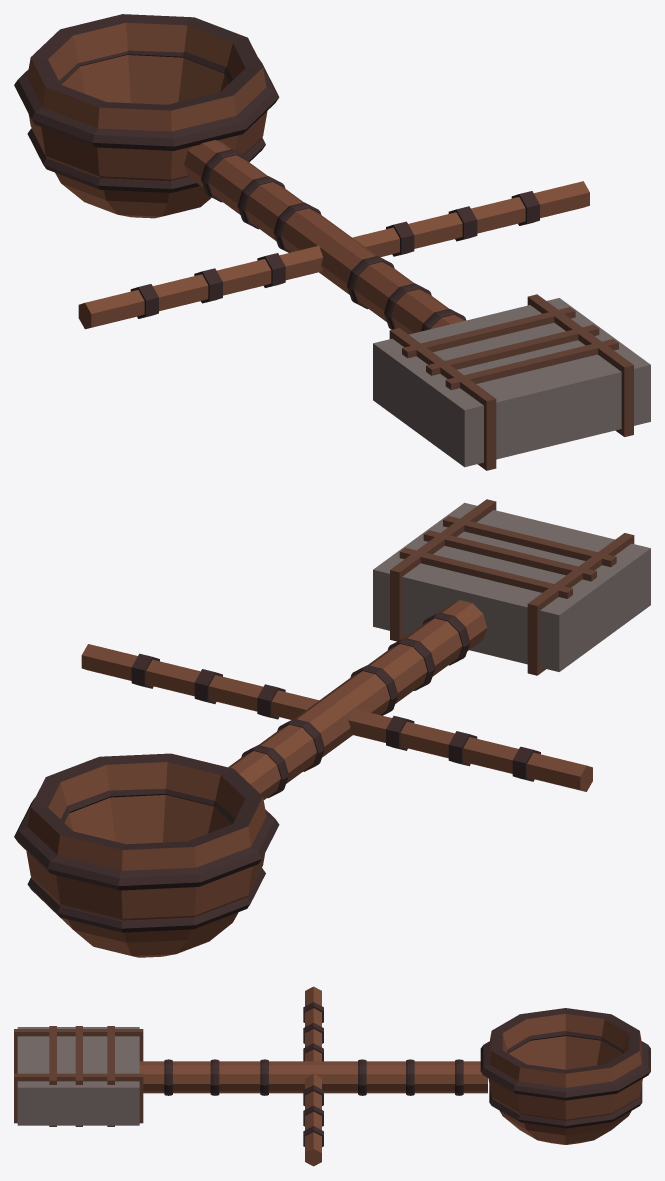
The model's file is catapult.fbx.
3 views of the same model, one above another, from view 1: azimuth 30°, elevation 25°; view 2: azimuth 150°, elevation 25°; view 3: azimuth 270°, elevation 25° (orthographic). The views are drawn at different scales.
Visible parts, largest first — view 1: pTorus14; view 2: pTorus14; view 3: pTorus14.
Part boxes in pixels (x1=…): pTorus14: x1=14, y1=14, x2=650, y2=470; pTorus14: x1=14, y1=499, x2=650, y2=957; pTorus14: x1=14, y1=986, x2=650, y2=1166.
Size of the model in its own units: 7.58 by 2.12 by 12.56.
